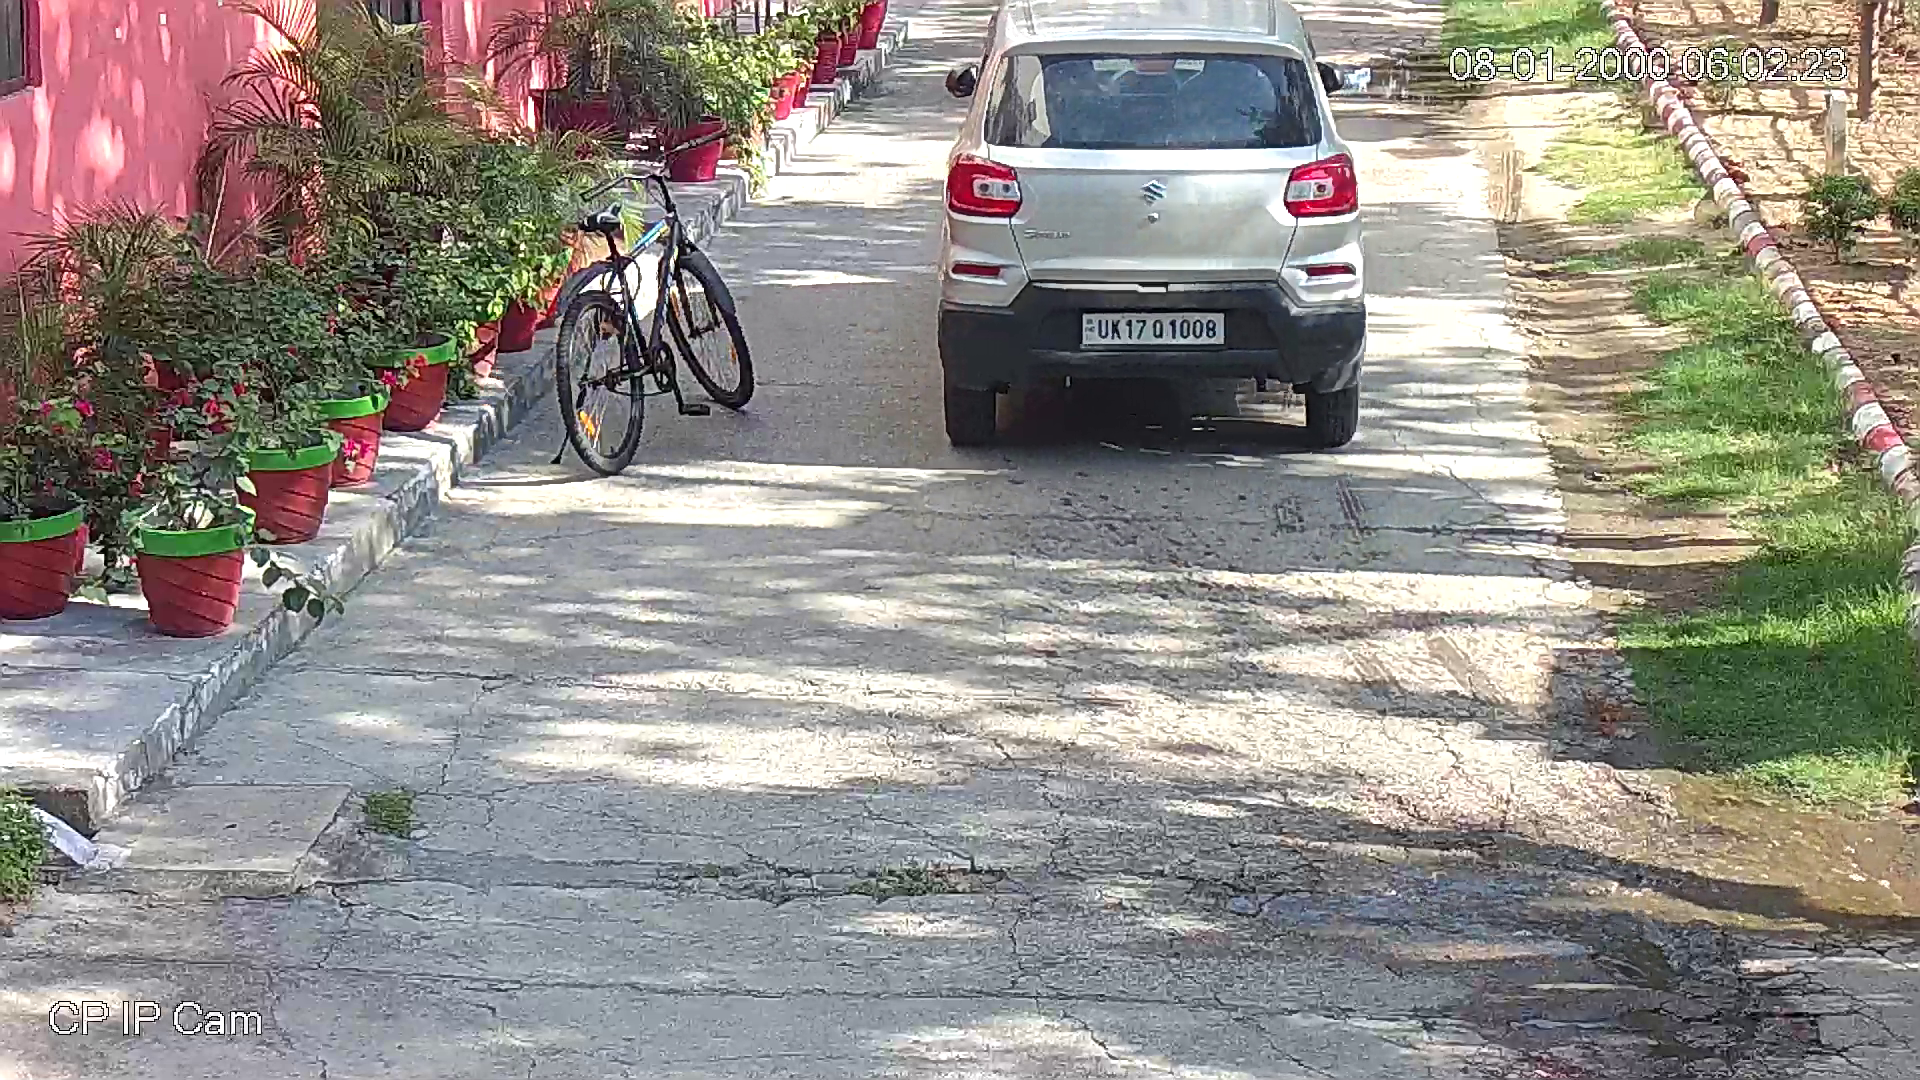plate: (1074, 306, 1226, 351)
